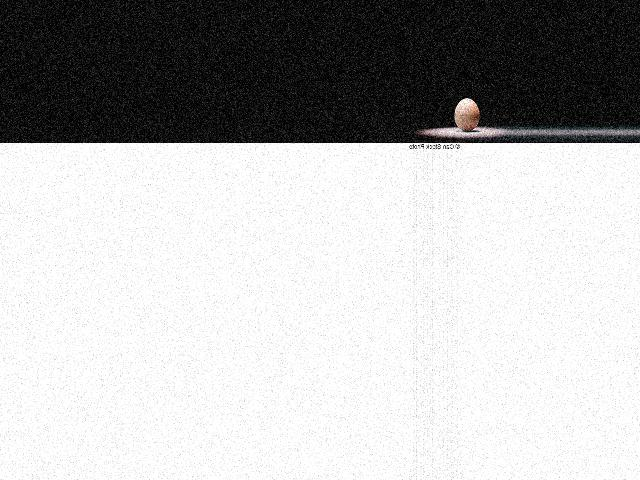egg: (453, 98, 479, 131)
